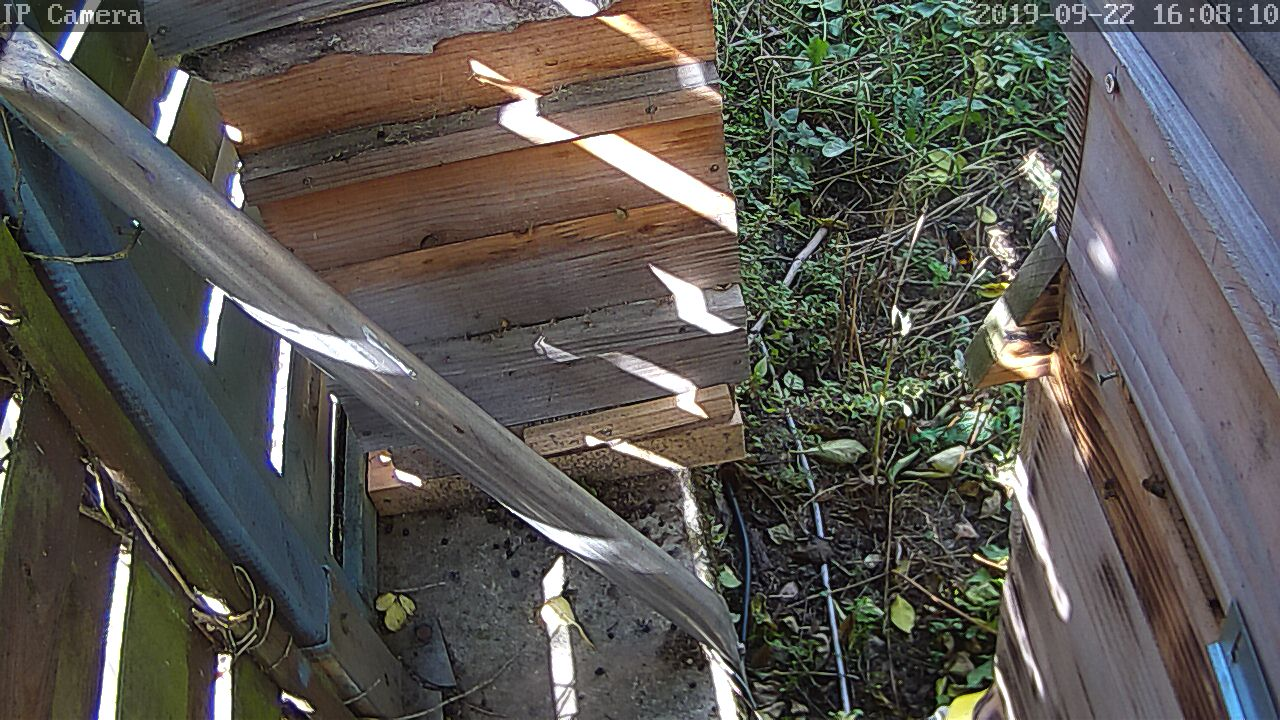bee: (1130, 468, 1176, 505)
hornet: (938, 226, 984, 276)
